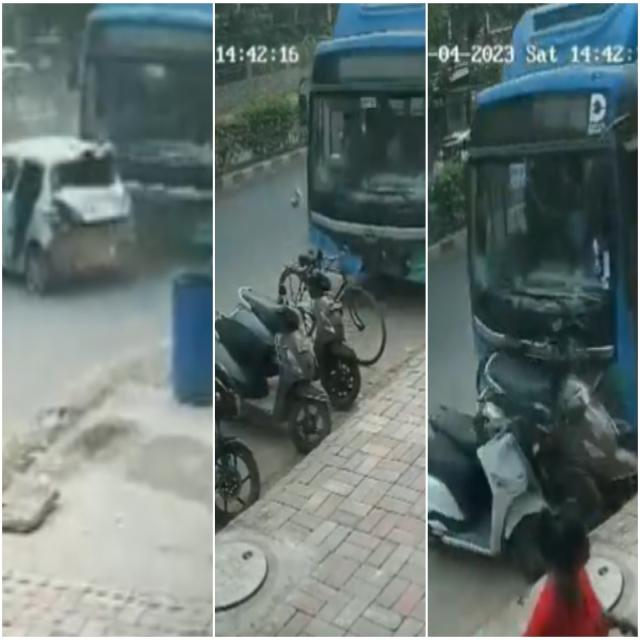accident: (2, 137, 135, 292)
bus: (308, 6, 426, 283)
